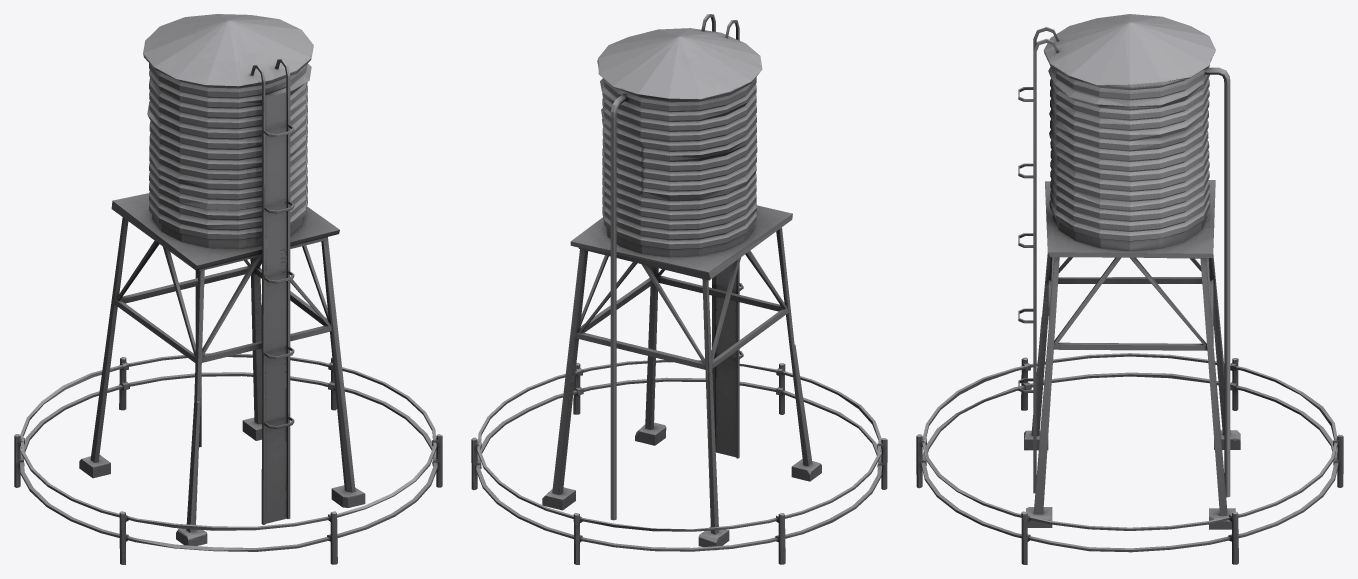
The model's file is Farm_WaterTank.fbx.
The picture shows the model from 3 angles, left to right: view 1: azimuth 30°, elevation 25°; view 2: azimuth 150°, elevation 25°; view 3: azimuth 270°, elevation 25°; orthographic projection. The views are drawn at different scales.
Parts seen in each view (by area): view 1: SM_Town_Farm_WaterTank_01.mo; view 2: SM_Town_Farm_WaterTank_01.mo; view 3: SM_Town_Farm_WaterTank_01.mo.
Part boxes in pixels (x1,y1,x2,y2): SM_Town_Farm_WaterTank_01.mo: (14,14,442,564); SM_Town_Farm_WaterTank_01.mo: (471,14,887,564); SM_Town_Farm_WaterTank_01.mo: (916,14,1343,564).
Size of the model in its own units: 531 by 650 by 542.
